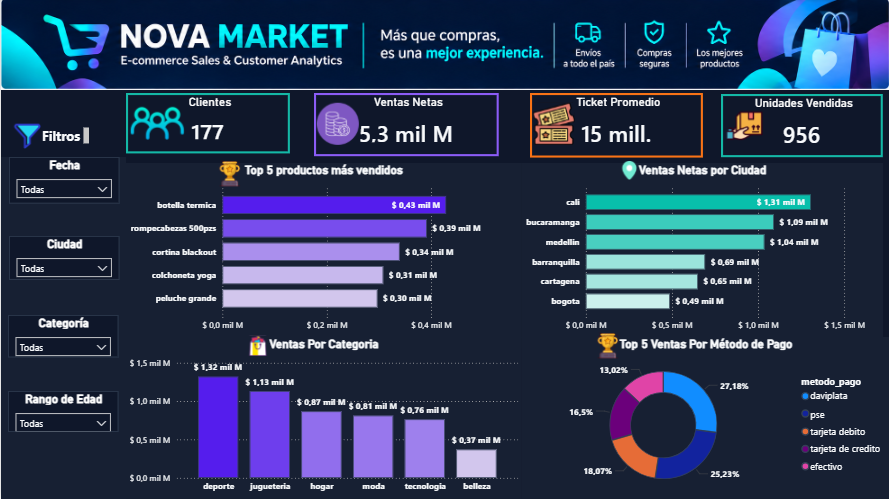

Layout of this report page (visuals, bound fields, positions):
{"tool":"powerbi","page":{"name":"Página 1","canvas":[1280,720],"ordinal":0},"visuals":[{"type":"shape","box":[0,227.1,180,492.9],"z":0},{"type":"clusteredBarChart","title":"Ventas Netas por Ciudad","fields":{"Category":["ventas_ecommerce_limpio.ciudad"],"Y":["Sum(ventas_ecommerce_limpio.Venta_Neta)"]},"box":[750,235.7,520,251.4],"z":1000},{"type":"clusteredColumnChart","title":"Ventas Por Categoria","fields":{"Category":["ventas_ecommerce_limpio.categoria"],"Y":["Sum(ventas_ecommerce_limpio.Venta_Neta)"]},"box":[180,487.1,570,232.9],"z":2000},{"type":"cardVisual","title":"Ventas Netas","fields":{"Data":["Sum(ventas_ecommerce_limpio.Venta_Neta)"]},"box":[450,135.7,265.7,91.4],"z":3000},{"type":"cardVisual","title":"Unidades Vendidas","fields":{"Data":["Sum(ventas_ecommerce_limpio.cantidad)"]},"box":[1037.1,137.1,232.9,91.4],"z":4000},{"type":"cardVisual","title":"Clientes","fields":{"Data":["ventas_ecommerce_limpio.Cantidad_Clientes"]},"box":[180,135.7,235.7,87.1],"z":5000},{"type":"cardVisual","title":"Ticket Promedio","fields":{"Data":["ventas_ecommerce_limpio.Ticket_Promedio"]},"box":[761.4,135.7,248.6,92.9],"z":6000},{"type":"clusteredBarChart","title":"Top 5 productos más vendidos","fields":{"Category":["ventas_ecommerce_limpio.producto"],"Y":["Sum(ventas_ecommerce_limpio.Venta_Neta)"]},"box":[180,235.7,570,251.4],"z":7000},{"type":"donutChart","title":"Top 5 Ventas Por Método de Pago","fields":{"Y":["Sum(ventas_ecommerce_limpio.Venta_Neta)"],"Category":["ventas_ecommerce_limpio.metodo_pago"]},"box":[750,487.1,530,232.9],"z":8000},{"type":"slicer","title":"Fecha","fields":{"Values":["ventas_ecommerce_limpio.fecha_compra"]},"box":[11.4,227.1,158.6,67.1],"z":9000},{"type":"slicer","title":"Ciudad","fields":{"Values":["ventas_ecommerce_limpio.ciudad"]},"box":[11.4,341.4,158.6,62.9],"z":10000},{"type":"slicer","title":"Categoría","fields":{"Values":["ventas_ecommerce_limpio.categoria"]},"box":[10,455.7,158.6,61.4],"z":11000},{"type":"slicer","title":"Rango de Edad","fields":{"Values":["ventas_ecommerce_limpio.rango_edad"]},"box":[10,564.3,158.6,58.6],"z":12000},{"type":"image","box":[0,0,1280,131.4],"z":13000},{"type":"actionButton","box":[181.4,135.7,92.9,87.1],"z":13001},{"type":"actionButton","box":[450,145.7,78.6,68.6],"z":13002},{"type":"actionButton","box":[761.4,145.7,81.4,68.6],"z":13003},{"type":"actionButton","box":[1037.1,148.6,81.4,68.6],"z":13004},{"type":"actionButton","box":[11.4,170,54.3,52.9],"z":13005},{"type":"textbox","box":[54.3,180,77.1,34.3],"z":13006},{"type":"actionButton","box":[298.6,217.1,62.9,67.1],"z":13007},{"type":"actionButton","box":[842.9,465.7,62.9,67.1],"z":13008},{"type":"actionButton","box":[887.1,222.9,35.7,47.1],"z":13009},{"type":"actionButton","box":[351.4,481.4,40,37.1],"z":13010}]}

Visuals, with their boxes in screenshot pixels (x1, y1, x2, y2), scaled from the page's 1280x720 canvas onto the 889x499 screenshot:
shape: [0,157,125,498]
"Ventas Netas por Ciudad" clusteredBarChart: [521,163,882,338]
"Ventas Por Categoria" clusteredColumnChart: [125,338,521,498]
"Ventas Netas" cardVisual: [313,94,497,157]
"Unidades Vendidas" cardVisual: [720,95,882,158]
"Clientes" cardVisual: [125,94,289,154]
"Ticket Promedio" cardVisual: [529,94,701,158]
"Top 5 productos más vendidos" clusteredBarChart: [125,163,521,338]
"Top 5 Ventas Por Método de Pago" donutChart: [521,338,888,498]
"Fecha" slicer: [8,157,118,204]
"Ciudad" slicer: [8,237,118,280]
"Categoría" slicer: [7,316,117,358]
"Rango de Edad" slicer: [7,391,117,432]
image: [0,0,888,91]
actionButton: [126,94,191,154]
actionButton: [313,101,367,149]
actionButton: [529,101,585,149]
actionButton: [720,103,777,151]
actionButton: [8,118,46,154]
textbox: [38,125,91,149]
actionButton: [207,150,251,197]
actionButton: [585,323,629,369]
actionButton: [616,154,641,187]
actionButton: [244,334,272,359]
